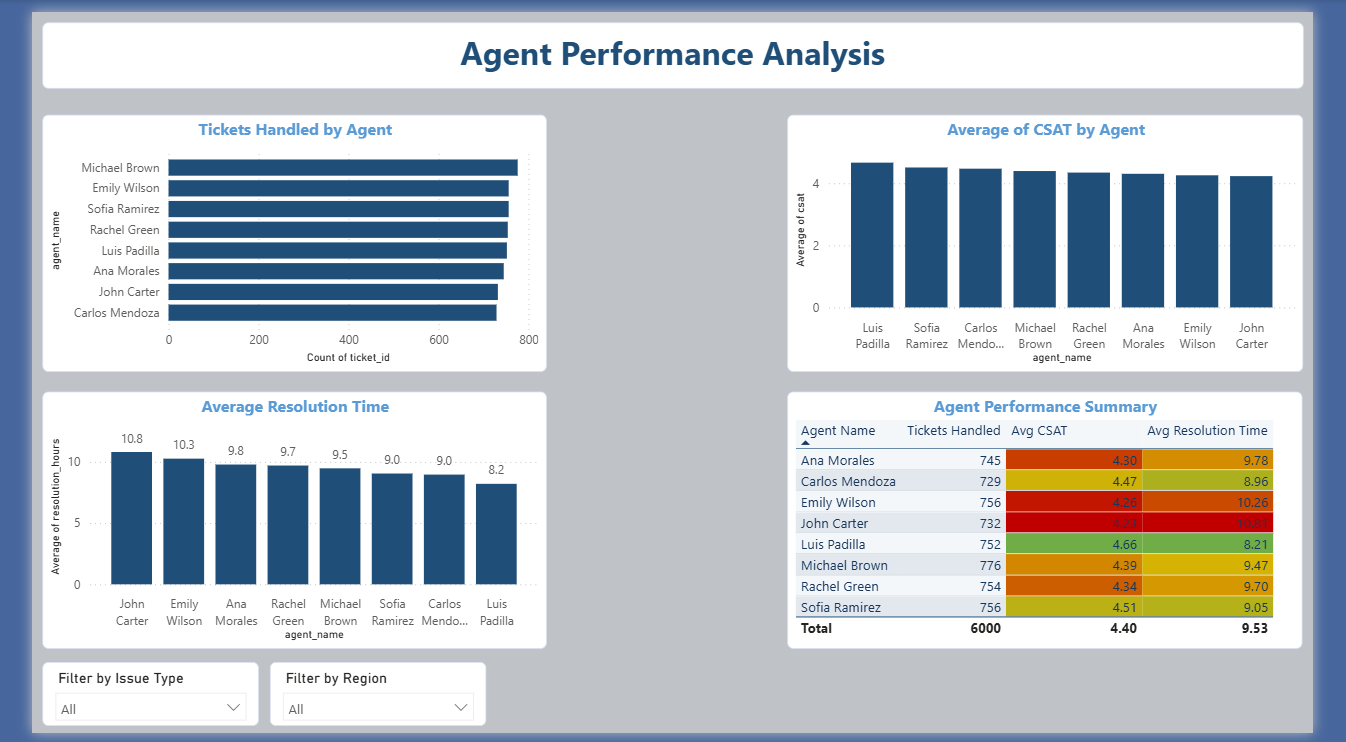

What the dashboard file says about the page in this screenshot:
{"tool":"powerbi","page":{"name":"Agent Performance","canvas":[1280,720],"ordinal":1},"visuals":[{"type":"textbox","box":[10,10,1259.7,66.3],"z":0},{"type":"clusteredBarChart","title":"Tickets Handled by Agent","fields":{"Category":["Fact_SupportTickets.agent_name"],"Y":["CountNonNull(Fact_SupportTickets.ticket_id)"]},"box":[10.4,102.6,503.9,257.1],"z":1000},{"type":"clusteredColumnChart","title":"Average of CSAT by Agent","fields":{"Category":["Fact_SupportTickets.agent_name"],"Y":["Avg(Fact_SupportTickets.csat)"]},"box":[754.5,102.6,515.6,257.1],"z":2000},{"type":"clusteredColumnChart","title":"Average Resolution Time ","fields":{"Category":["Fact_SupportTickets.agent_name"],"Y":["Avg(Fact_SupportTickets.resolution_hours)"]},"box":[10.4,379.2,503.9,257.1],"z":3000},{"type":"tableEx","title":"Agent Performance Summary","fields":{"Values":["Fact_SupportTickets.agent_name","Fact_SupportTickets.ticket_id","Avg(Fact_SupportTickets.csat)","Avg(Fact_SupportTickets.resolution_hours)"]},"box":[754.5,379.2,514.3,257.1],"z":4000},{"type":"slicer","fields":{"Values":["Fact_SupportTickets.issue_type"]},"box":[10,649.2,216.4,63.8],"z":5000},{"type":"slicer","fields":{"Values":["Fact_SupportTickets.region"]},"box":[237.7,649.2,216.4,63.8],"z":6000}]}

Visuals, with their boxes in screenshot pixels (x1, y1, x2, y2), scaled from the page's 1280x720 canvas onto the 1346x742 screenshot:
textbox: crop(11, 10, 1335, 79)
"Tickets Handled by Agent" clusteredBarChart: crop(11, 106, 541, 371)
"Average of CSAT by Agent" clusteredColumnChart: crop(793, 106, 1336, 371)
"Average Resolution Time " clusteredColumnChart: crop(11, 391, 541, 656)
"Agent Performance Summary" tableEx: crop(793, 391, 1334, 656)
slicer - Fact_SupportTickets.issue_type: crop(11, 669, 238, 735)
slicer - Fact_SupportTickets.region: crop(250, 669, 478, 735)
